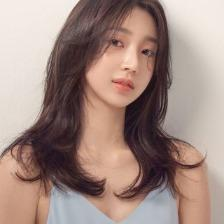Non hijab: (0, 0, 205, 203)
